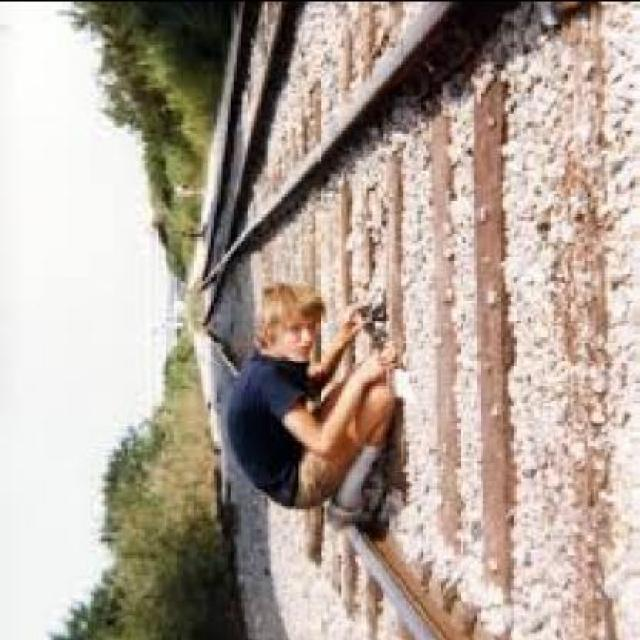danger: (223, 280, 406, 532)
rail: (167, 0, 637, 637)
